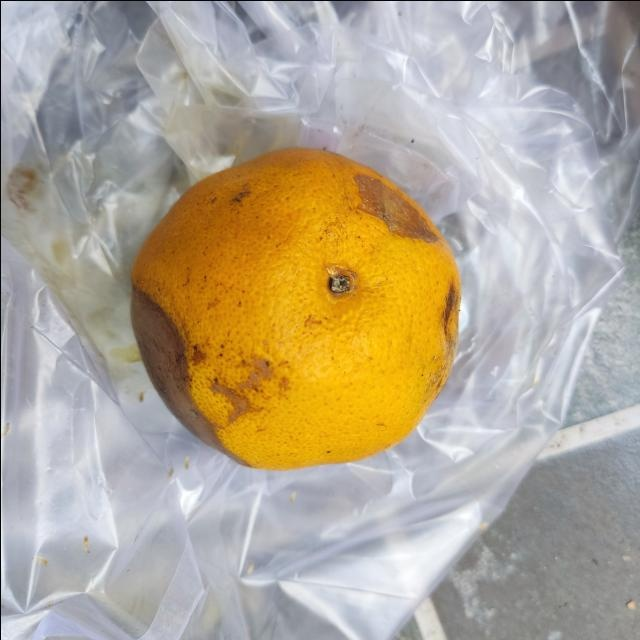agrume: (126, 146, 462, 472)
